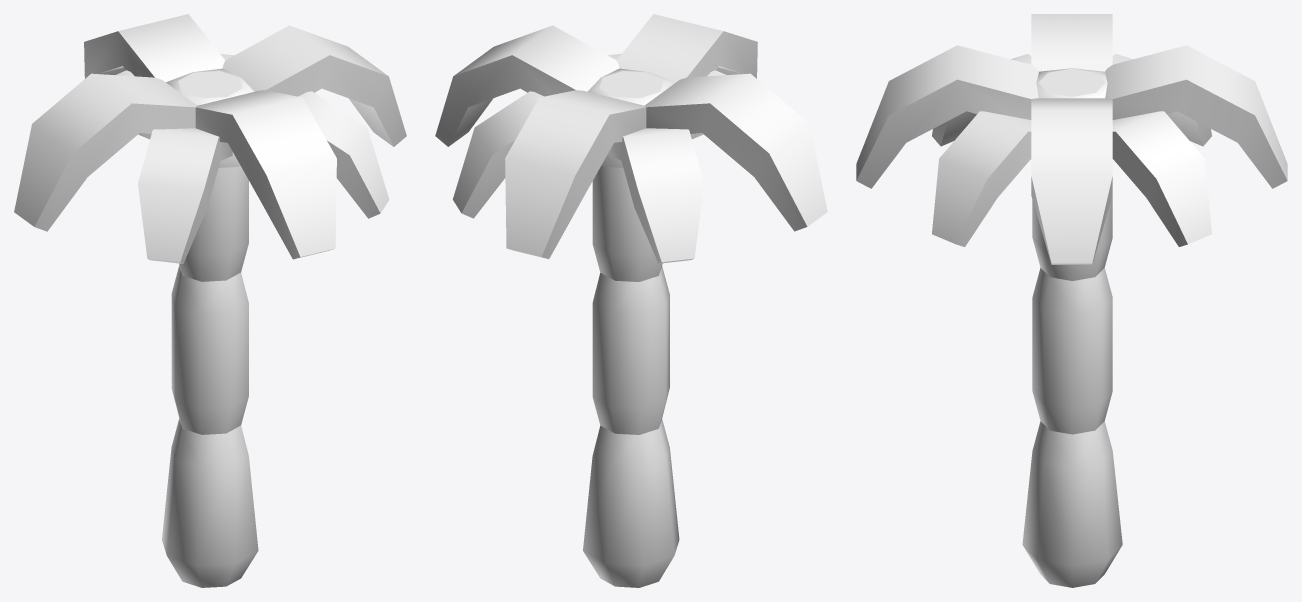
File: palm-detailed-straight.glb
3 renders of one model, left to right at view 1: azimuth 30°, elevation 25°; view 2: azimuth 150°, elevation 25°; view 3: azimuth 270°, elevation 25°, orthographic.
Visible parts, largest first — view 1: palm-detailed-straight; view 2: palm-detailed-straight; view 3: palm-detailed-straight.
Boxes of the visible parts, x1=… form: palm-detailed-straight: x1=14, y1=14, x2=406, y2=587; palm-detailed-straight: x1=435, y1=14, x2=827, y2=587; palm-detailed-straight: x1=856, y1=14, x2=1287, y2=587.
Size of the model in its own units: 3.22 by 4.21 by 3.22.
Materials: 1 (1 with a texture image).
